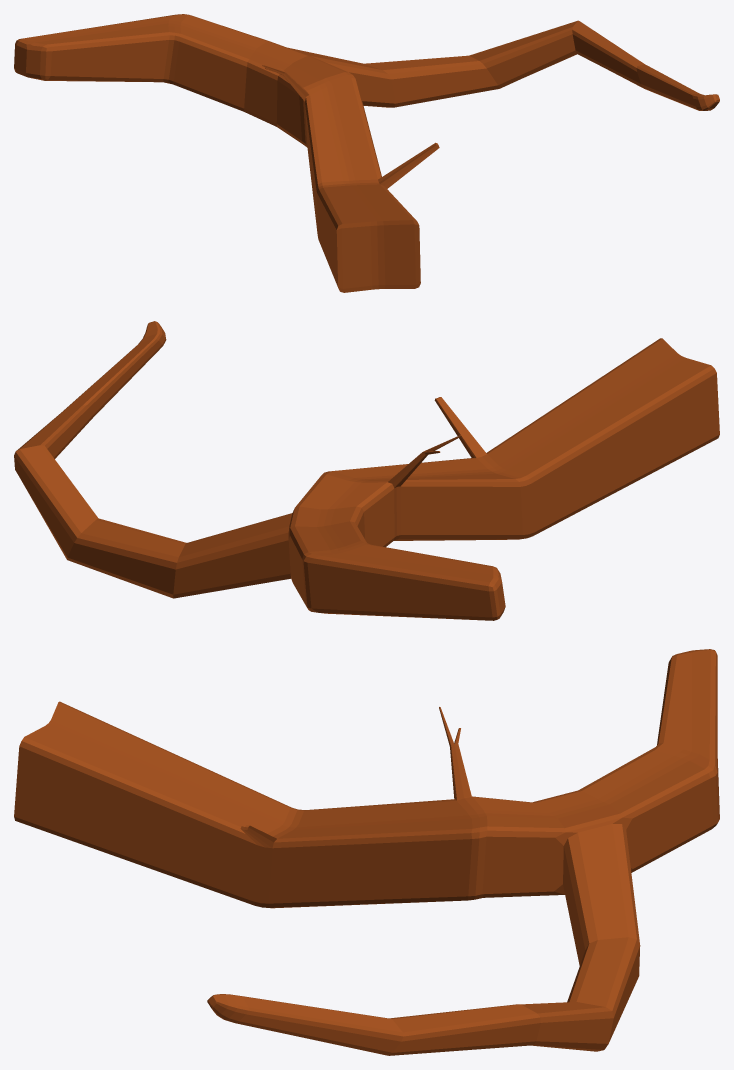
Rendered from agac_dal6.fbx.
3 renders of one model, top to bottom at view 1: azimuth 30°, elevation 25°; view 2: azimuth 150°, elevation 25°; view 3: azimuth 270°, elevation 25°, orthographic. The views are drawn at different scales.
Visible parts, largest first — view 1: Cylinder.002; view 2: Cylinder.002; view 3: Cylinder.002.
Boxes of the visible parts, bbox=[...] form: Cylinder.002: bbox=[14, 14, 719, 292]; Cylinder.002: bbox=[14, 321, 719, 620]; Cylinder.002: bbox=[14, 649, 719, 1055].
Size of the model in its own units: 8.25 by 2.1 by 7.8.
